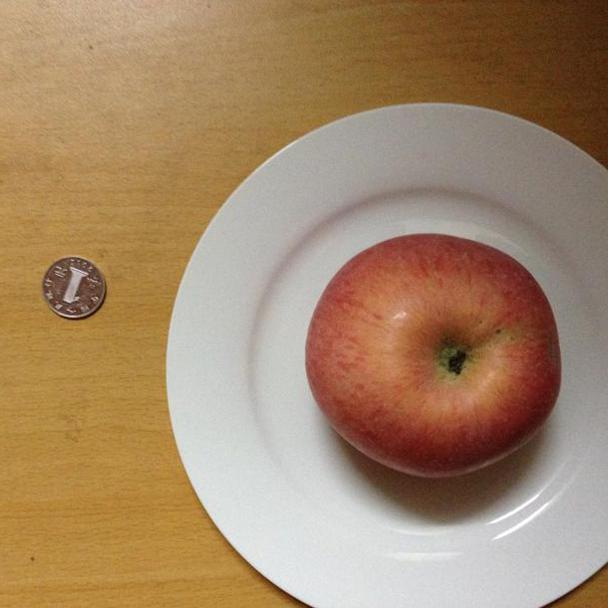apple: (304, 233, 562, 479)
